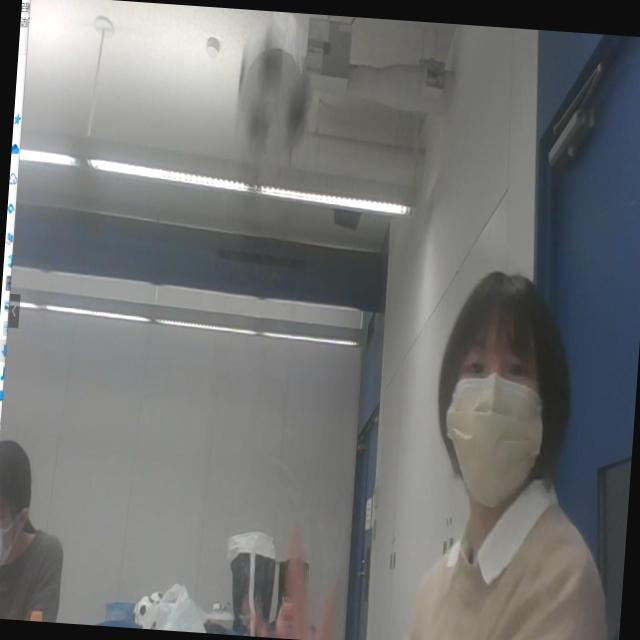Soccer Ball: (236, 45, 317, 152)
